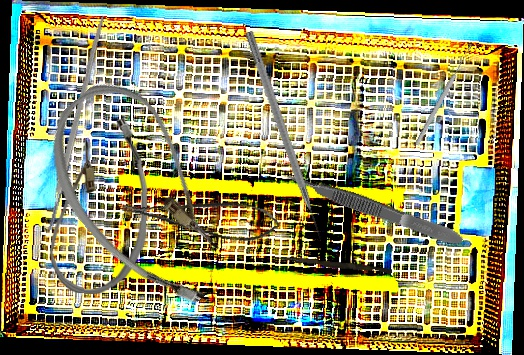Cannula: (18, 65, 269, 325), (48, 116, 151, 296)
Hook Surgical: (242, 30, 326, 242)
Micro Scissor: (120, 176, 284, 251)
Pusher: (278, 256, 393, 274)
Scalpel Handle: (44, 14, 107, 233)
Surgical Spoon: (413, 43, 475, 147)
Tissue Forceps: (283, 166, 466, 250)
